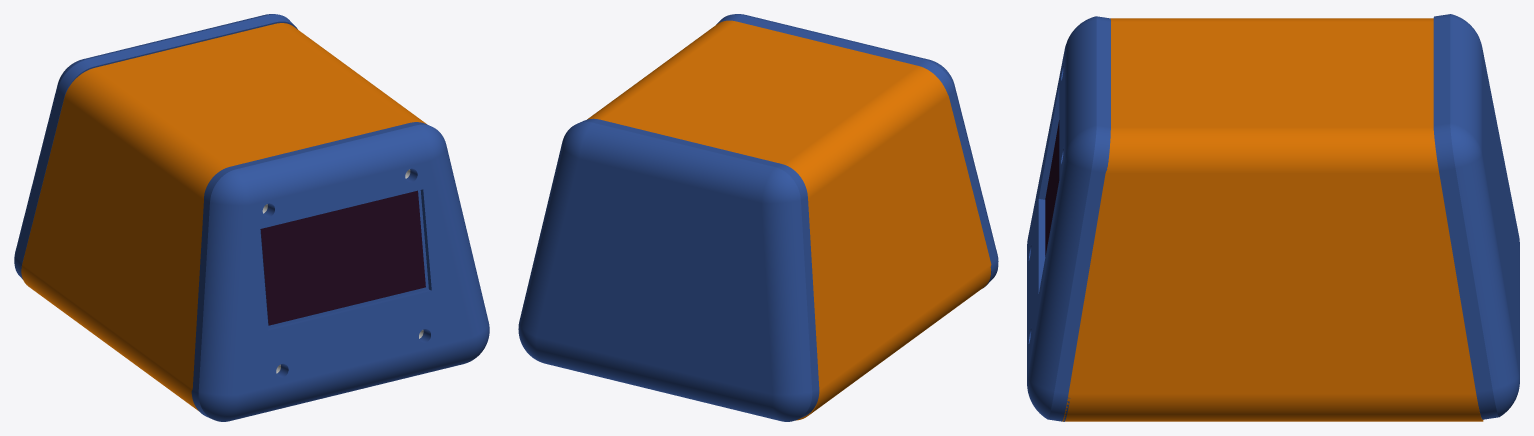
The model's file is cheepygood-assembly.gltf.
3 views of the same model, side by side, from view 1: azimuth 30°, elevation 25°; view 2: azimuth 150°, elevation 25°; view 3: azimuth 270°, elevation 25° (orthographic). The views are drawn at different scales.
Visible parts, largest first — view 1: Part 1 (×2), OLED TFT 0.96 inch 64x128 monochrome; view 2: Part 1 (×2), OLED TFT 0.96 inch 64x128 monochrome; view 3: Part 1 (×2), OLED TFT 0.96 inch 64x128 monochrome.
Boxes of the visible parts, box(x1,y1,x2,y2) form: Part 1 (×2): box(14, 14, 426, 410); OLED TFT 0.96 inch 64x128 monochrome: box(191, 122, 489, 421); Part 1 (×2): box(518, 20, 991, 421); OLED TFT 0.96 inch 64x128 monochrome: box(716, 14, 998, 288); Part 1 (×2): box(1062, 14, 1519, 421); OLED TFT 0.96 inch 64x128 monochrome: box(1027, 16, 1110, 421).
Size of the model in its own units: 0.0475 by 0.0365 by 0.0584.
